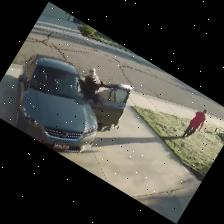person: (82, 69, 110, 99), (182, 110, 207, 137)
